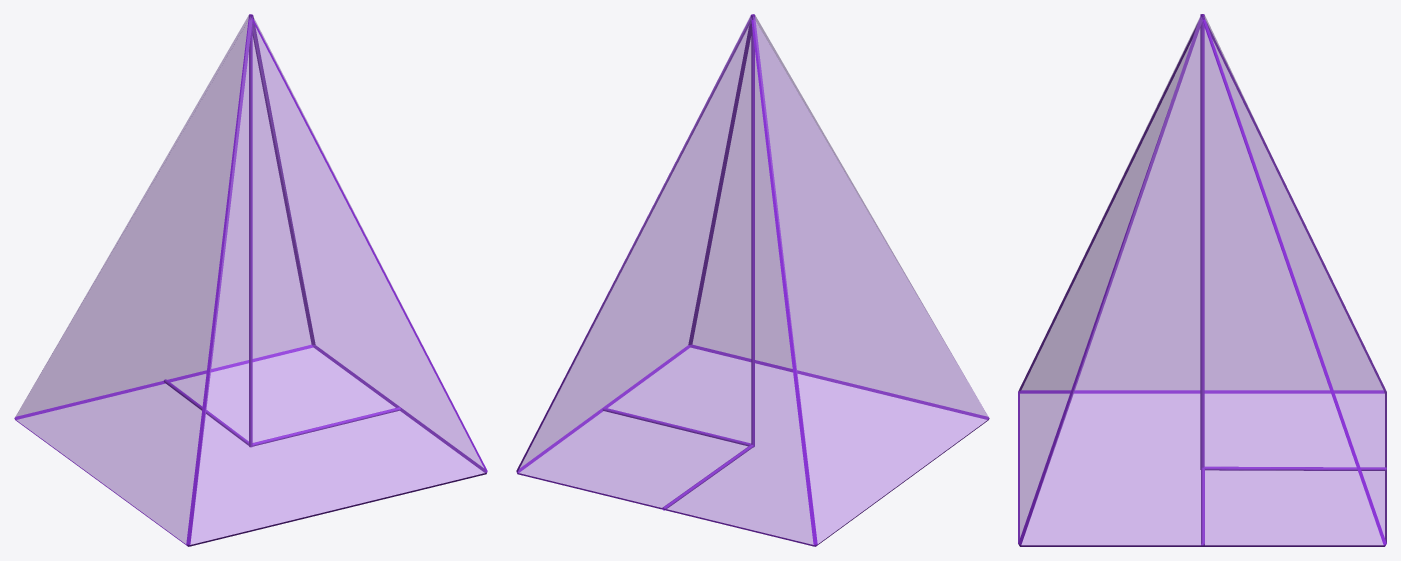
Rendered from geolimas.fbx.
3 renders of one model, left to right at view 1: azimuth 30°, elevation 25°; view 2: azimuth 150°, elevation 25°; view 3: azimuth 270°, elevation 25°, orthographic. The views are drawn at different scales.
Visible parts, largest first — view 1: Cube, Cylinder, Cylinder.001; view 2: Cube, Cylinder, Cylinder.001; view 3: Cube, Cylinder, Cylinder.002.
Boxes of the visible parts, x1,y1,x2,y2 form: Cube: (14, 14, 487, 546); Cylinder: (249, 14, 252, 447); Cylinder.001: (252, 407, 400, 446); Cube: (516, 14, 989, 546); Cylinder: (751, 14, 754, 446); Cylinder.001: (602, 407, 751, 446); Cube: (1018, 14, 1386, 546); Cylinder: (1200, 14, 1204, 469); Cylinder.002: (1204, 466, 1386, 470).
Size of the model in its own units: 145 by 199 by 146.
